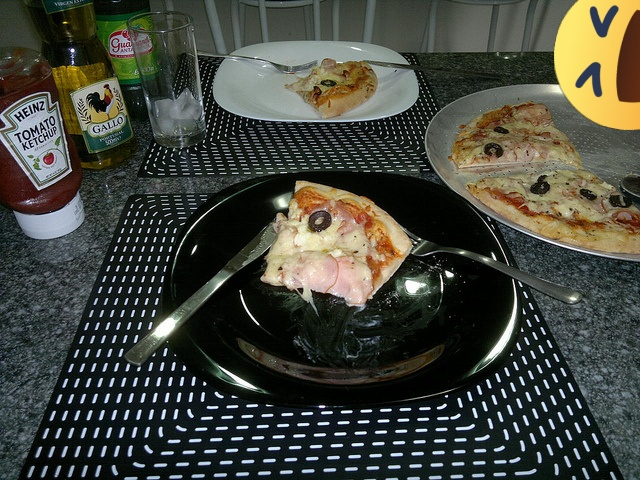haha: (554, 0, 640, 130)
